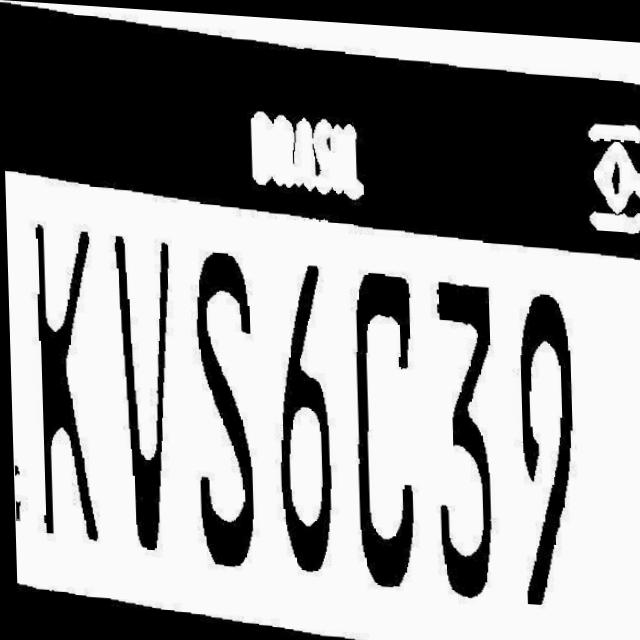3: (427, 263, 499, 594)
6: (270, 246, 338, 586)
9: (490, 270, 579, 581)
c: (338, 269, 420, 586)
k: (22, 218, 103, 548)
s: (177, 249, 259, 566)
v: (96, 221, 178, 556)
